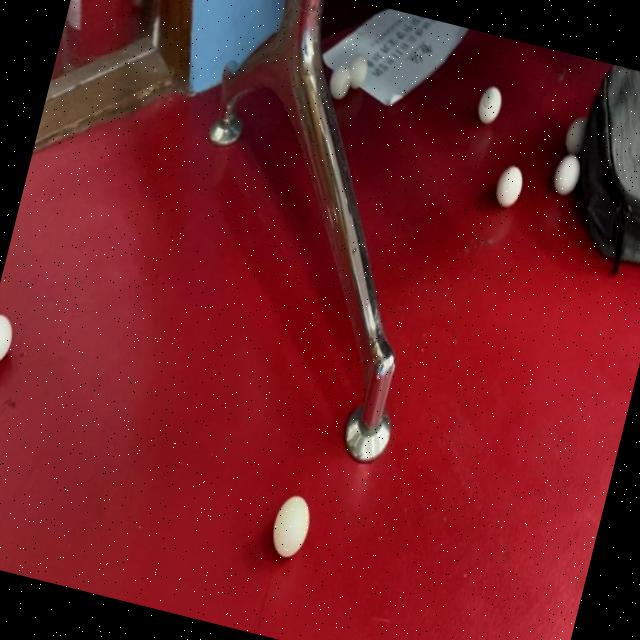ping-pong-ball: (260, 486, 320, 568), (470, 76, 510, 133), (488, 158, 528, 214), (547, 148, 585, 202), (322, 53, 358, 108), (343, 51, 374, 96), (0, 303, 20, 372)
